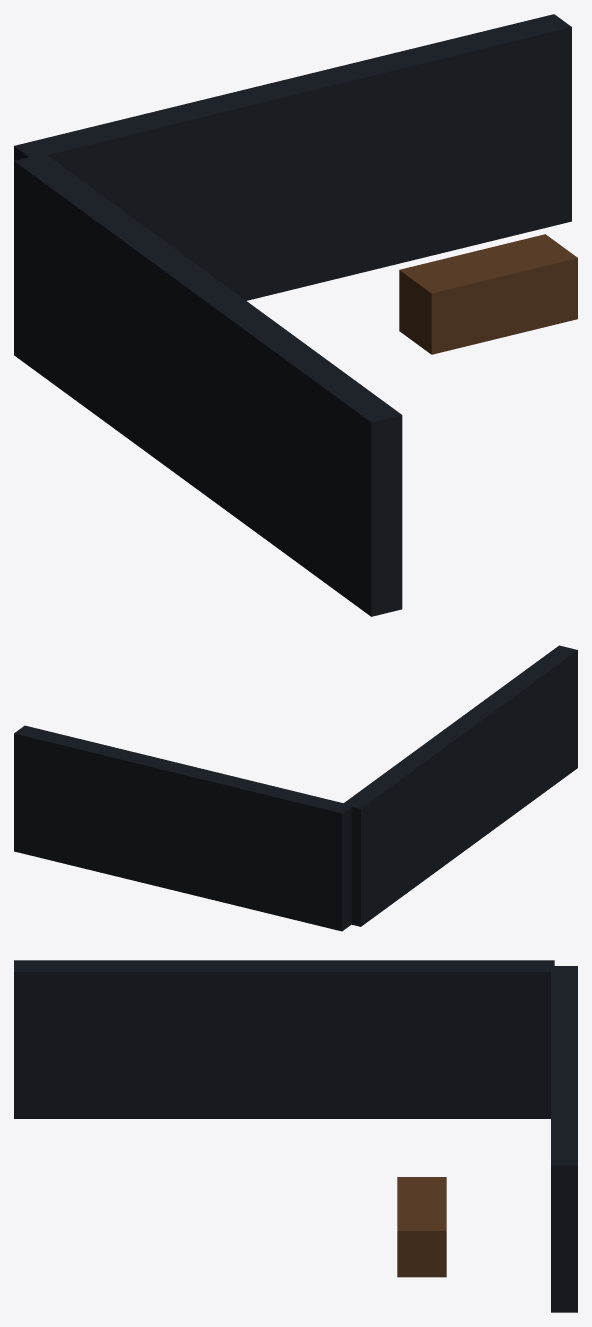
The model's file is module.l_corner_slice.glb.
The picture shows the model from 3 angles, top to bottom: view 1: azimuth 30°, elevation 25°; view 2: azimuth 150°, elevation 25°; view 3: azimuth 270°, elevation 25°; orthographic projection. The views are drawn at different scales.
Parts seen in each view (by area): view 1: outer_back_wall, outer_left_wall, answer_cover; view 2: outer_back_wall, outer_left_wall; view 3: outer_left_wall, outer_back_wall, answer_cover.
Part boxes in pixels (bbox=[...]): outer_back_wall: bbox=[14, 14, 571, 300]; outer_left_wall: bbox=[14, 155, 402, 616]; answer_cover: bbox=[399, 234, 577, 354]; outer_back_wall: bbox=[14, 725, 351, 931]; outer_left_wall: bbox=[342, 645, 577, 926]; outer_left_wall: bbox=[14, 960, 554, 1118]; outer_back_wall: bbox=[551, 966, 577, 1312]; answer_cover: bbox=[397, 1177, 446, 1277].
Size of the model in its own units: 9.88 by 3.3 by 11.48.
